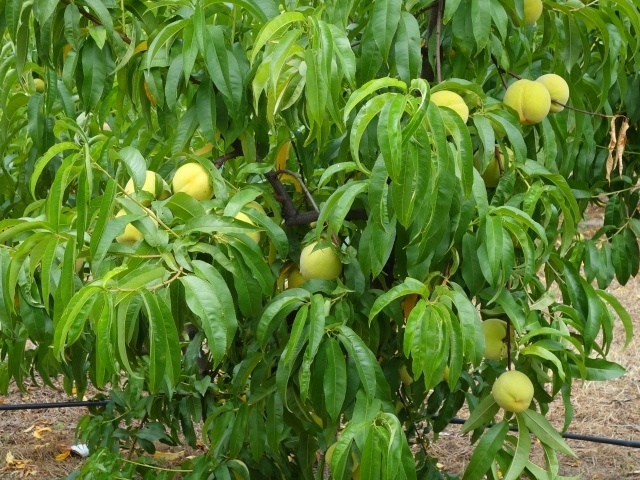peach: (498, 76, 554, 127), (109, 202, 163, 250), (487, 366, 537, 417), (468, 138, 519, 187), (119, 164, 174, 209), (166, 159, 216, 208), (295, 238, 345, 284), (427, 84, 471, 136), (475, 314, 519, 365), (533, 70, 576, 116), (510, 1, 550, 29), (223, 455, 253, 479)
